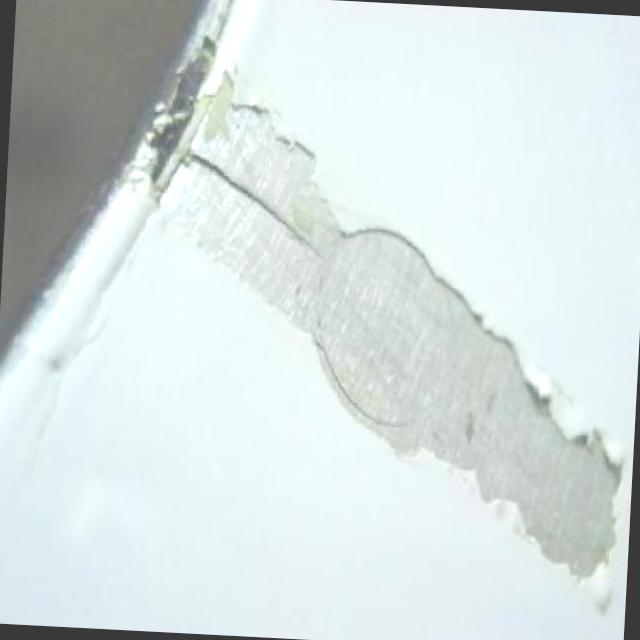crack: (175, 152, 262, 202), (256, 204, 328, 256)
